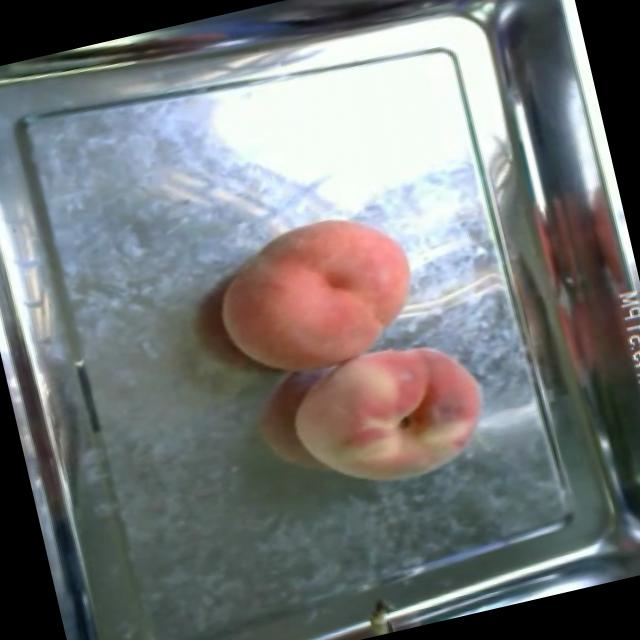Fruit: (192, 192, 438, 398), (272, 320, 504, 510)
